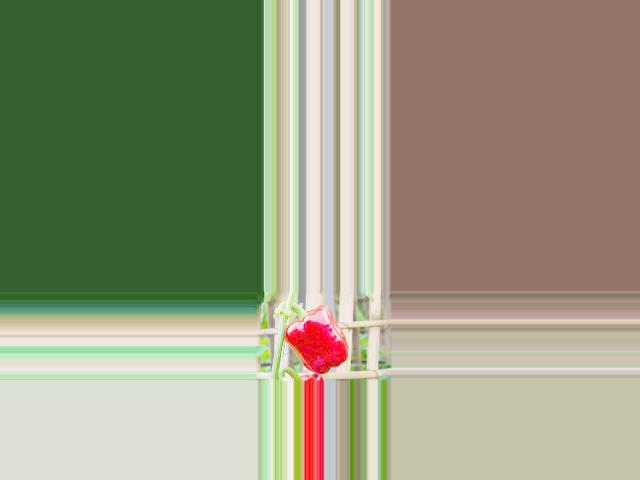bell_pepper: (279, 305, 353, 373)
